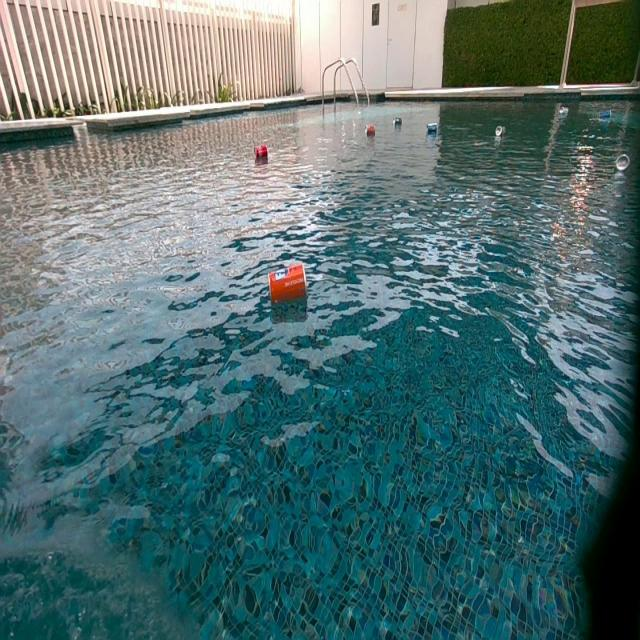Cans: (270, 263, 306, 305), (617, 156, 631, 173), (254, 145, 268, 160), (599, 109, 612, 120), (426, 125, 438, 136), (365, 125, 374, 138), (392, 116, 402, 127), (559, 105, 569, 116), (495, 127, 504, 138)
